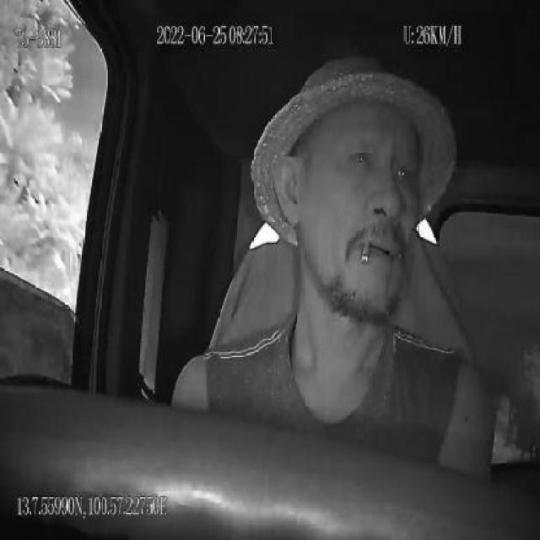smoking: (359, 239, 374, 270)
